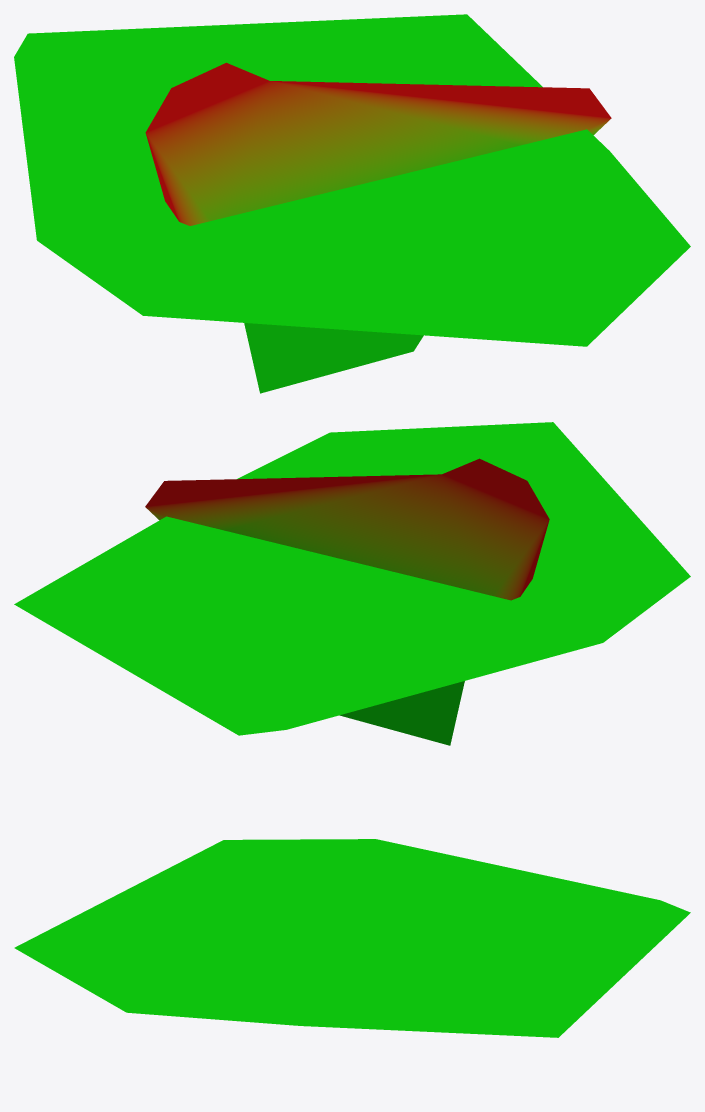
The model's file is Var6_LOD4.fbx.
The picture shows the model from 3 angles, top to bottom: view 1: azimuth 30°, elevation 25°; view 2: azimuth 150°, elevation 25°; view 3: azimuth 270°, elevation 25°; orthographic projection. The views are drawn at different scales.
Visible parts, largest first — view 1: _f3cc_Var6_LOD4; view 2: _f3cc_Var6_LOD4; view 3: _f3cc_Var6_LOD4.
Part boxes in pixels (left/top/right/bottom): _f3cc_Var6_LOD4: left=14, top=14, right=690, bottom=393; _f3cc_Var6_LOD4: left=14, top=422, right=690, bottom=745; _f3cc_Var6_LOD4: left=14, top=839, right=690, bottom=1037.
Size of the model in its own units: 145 by 84.76 by 209.
